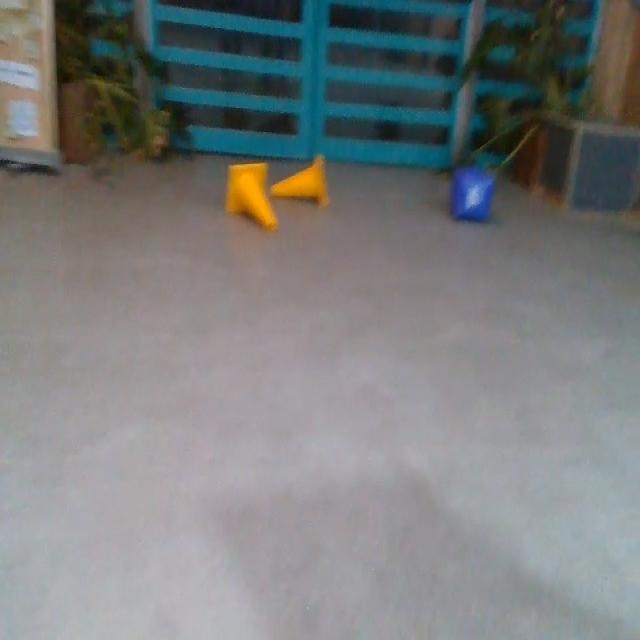cone: (223, 157, 280, 231), (272, 150, 334, 208)
cube: (452, 168, 494, 224)
